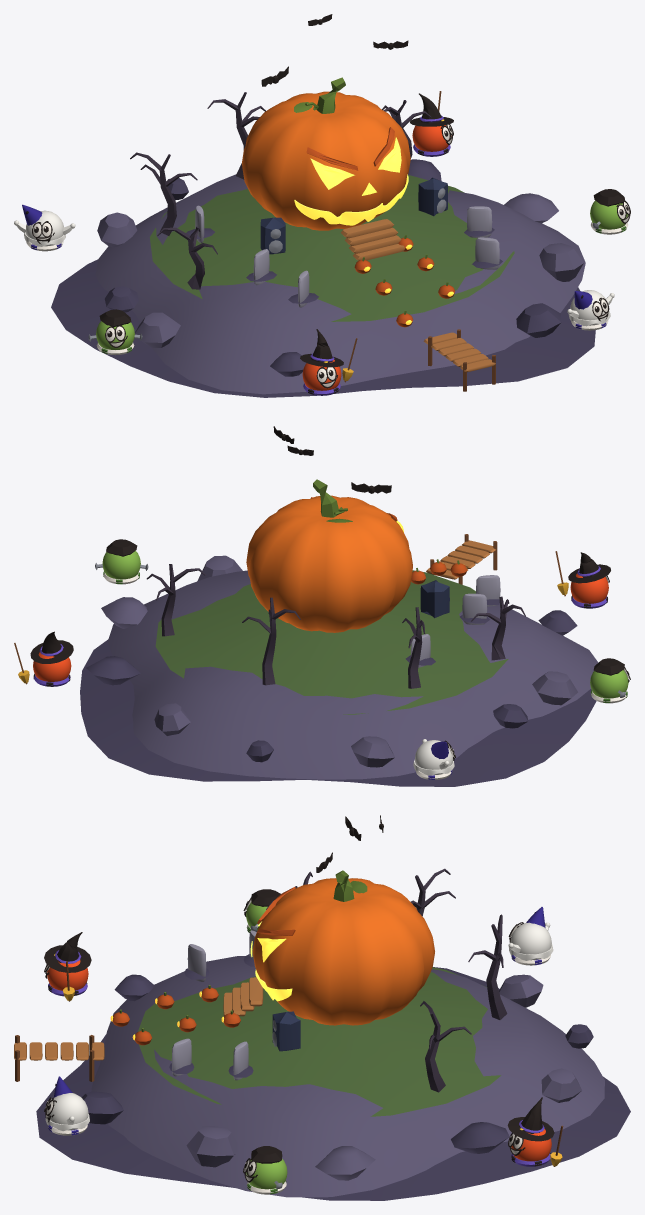
File: halloween.glb
3 views of the same model, one above another, from view 1: azimuth 30°, elevation 25°; view 2: azimuth 150°, elevation 25°; view 3: azimuth 270°, elevation 25° (orthographic). The views are drawn at different scales.
Parts seen in each view (by area): view 1: halloween_isla; view 2: halloween_isla; view 3: halloween_isla.
Boxes of the visible parts, x1,y1,x2,y2 form: halloween_isla: (14, 14, 630, 397); halloween_isla: (14, 426, 630, 786); halloween_isla: (14, 815, 630, 1200).
Bounding box in the file's own units: 18.44 × 8.35 × 17.23.
